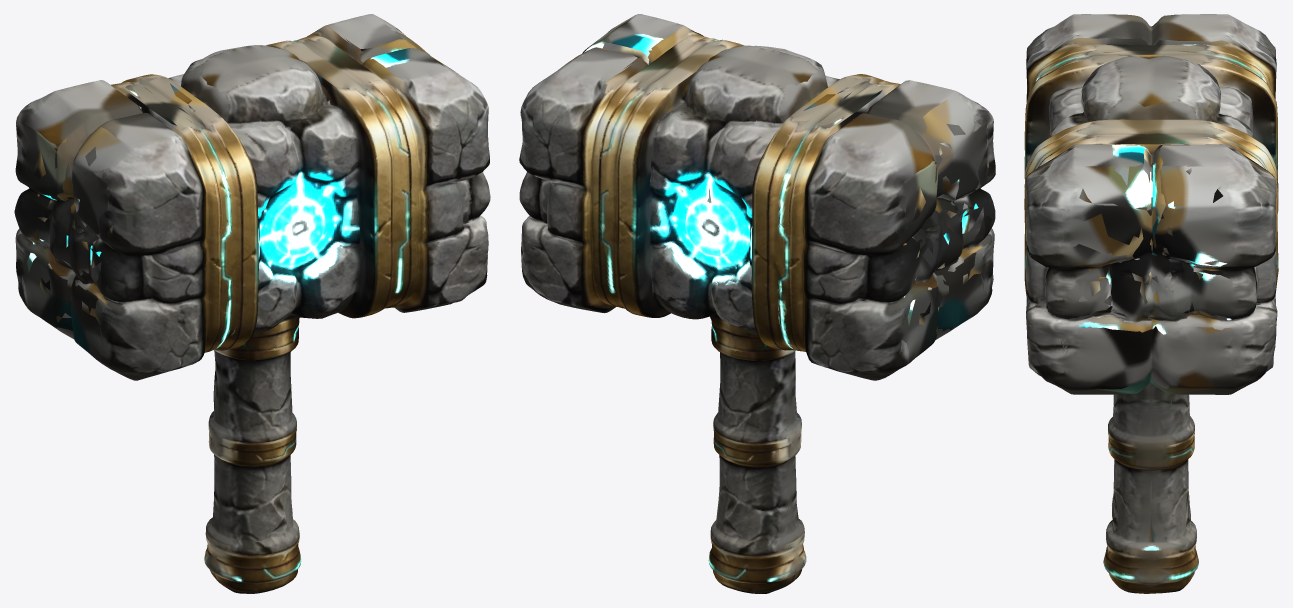
The model's file is rune_warhammer.glb.
The picture shows the model from 3 angles, left to right: view 1: azimuth 30°, elevation 25°; view 2: azimuth 150°, elevation 25°; view 3: azimuth 270°, elevation 25°; orthographic projection.
Visible parts, largest first — view 1: geometry_0; view 2: geometry_0; view 3: geometry_0.
Part boxes in pixels (left/top/right/bottom): geometry_0: left=14, top=14, right=490, bottom=593; geometry_0: left=519, top=14, right=995, bottom=593; geometry_0: left=1024, top=14, right=1278, bottom=593.
Bounding box in the file's own units: 1.09 × 1.42 × 0.6395.
Materials: 1 (1 with a texture image).
